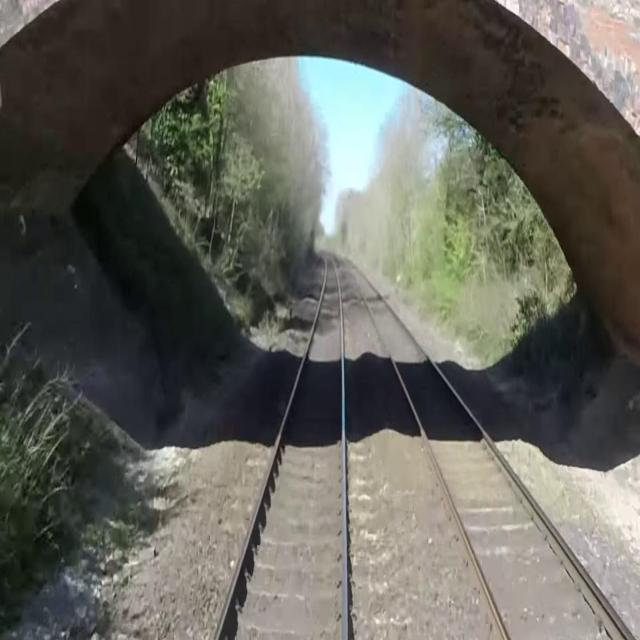rail-track: (342, 255, 628, 639), (218, 254, 342, 639)
